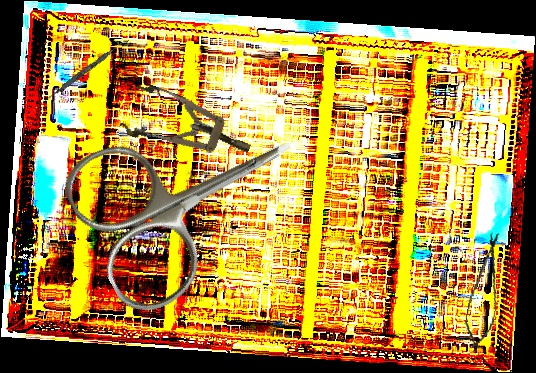Iris Scissors: (53, 70, 330, 324)
Micro Scissor: (461, 230, 508, 352)
Spatula Surgical: (44, 35, 129, 105)
Speculum: (117, 79, 259, 176)
